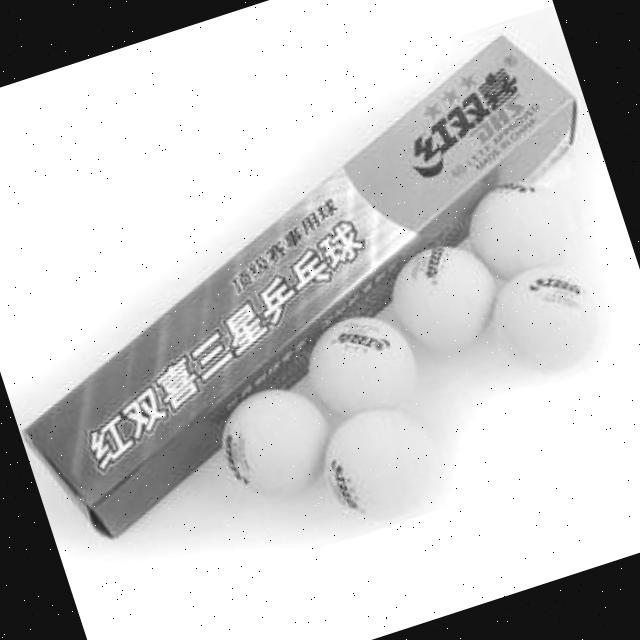ping-pong-ball: (198, 366, 350, 518), (302, 389, 447, 536), (373, 226, 512, 370), (475, 248, 616, 389), (288, 298, 430, 438), (450, 160, 590, 300)
